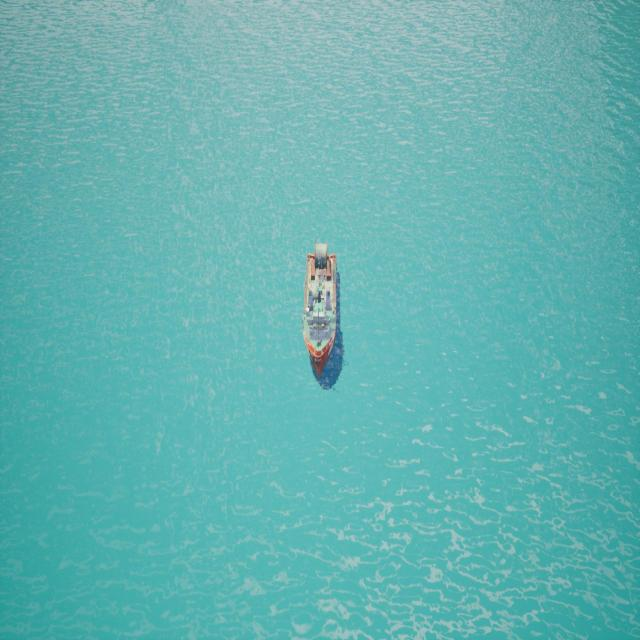tug boat: (291, 225, 356, 401)
